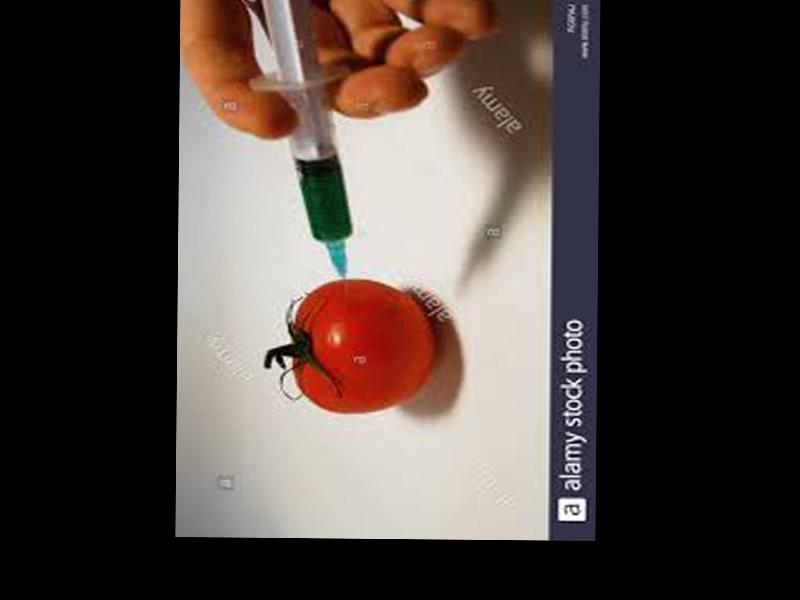Tomato: (292, 278, 435, 412)
